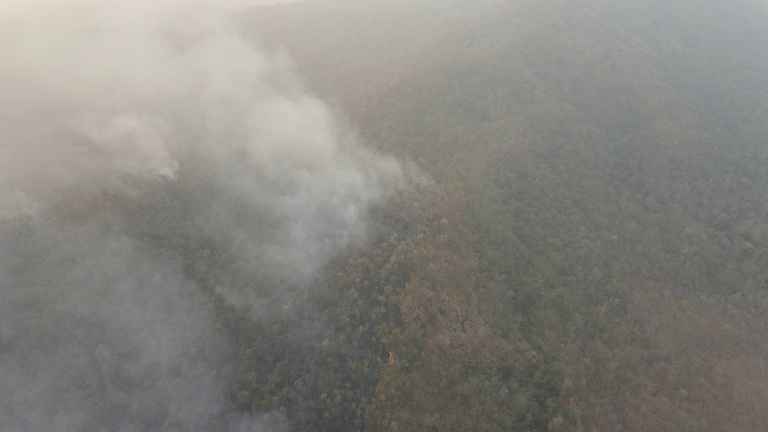fire: (361, 351, 397, 432)
smoke: (1, 1, 423, 430)
